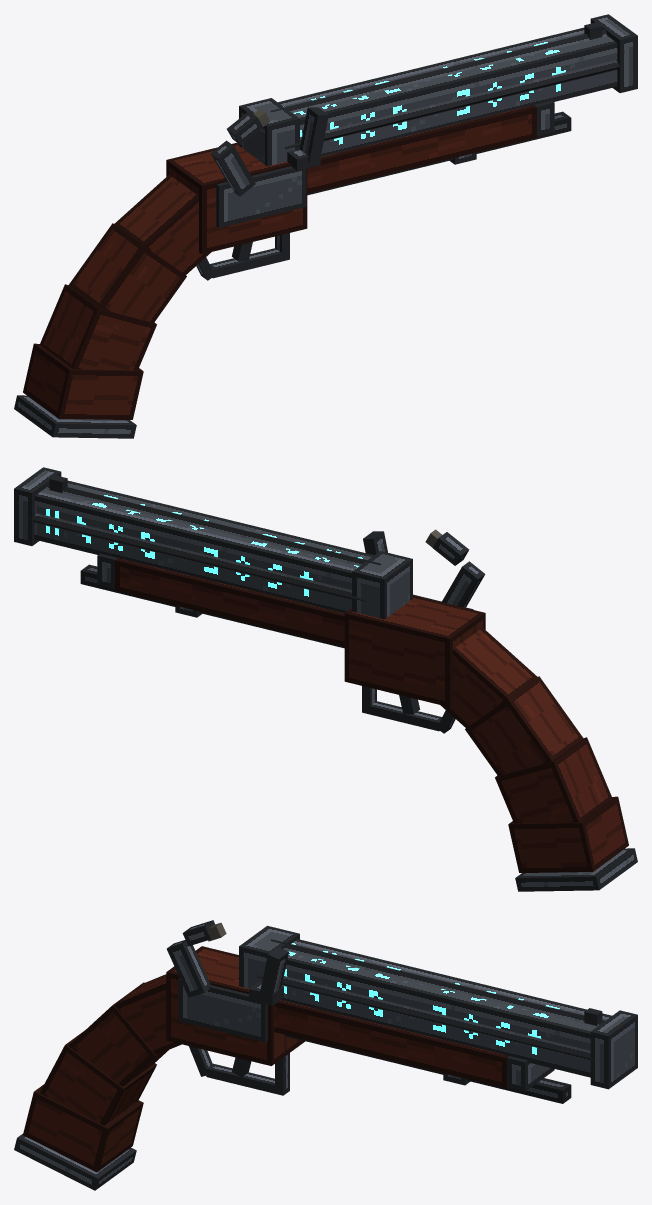
The model's file is cedars_gun.gltf.
The picture shows the model from 3 angles, top to bottom: view 1: azimuth 30°, elevation 25°; view 2: azimuth 150°, elevation 25°; view 3: azimuth 330°, elevation 25°; orthographic projection.
Visible parts, largest first — view 1: flintlock, hammer, frizzen; view 2: flintlock, hammer; view 3: flintlock, hammer, frizzen.
Boxes of the visible parts, x1,y1,x2,y2 form: flintlock: (14, 14, 637, 438); hammer: (210, 108, 270, 196); frizzen: (299, 107, 328, 161); flintlock: (14, 467, 637, 891); hammer: (425, 529, 485, 607); flintlock: (14, 925, 637, 1190); hammer: (167, 920, 226, 997); frizzen: (259, 947, 288, 1001).
Bounding box in the file's own units: 2.03 × 0.9848 × 0.2719.
Materials: 1 (1 with a texture image).
